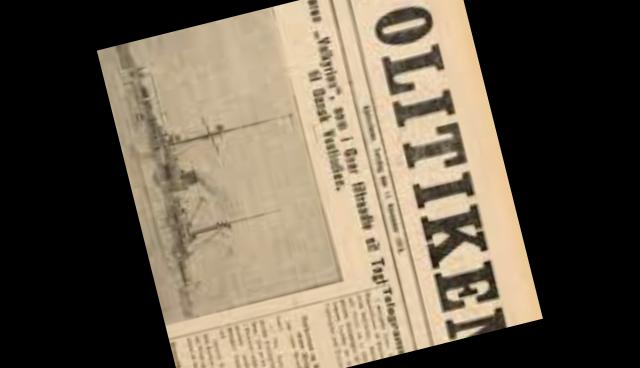cardboard paper: (97, 0, 528, 368)
